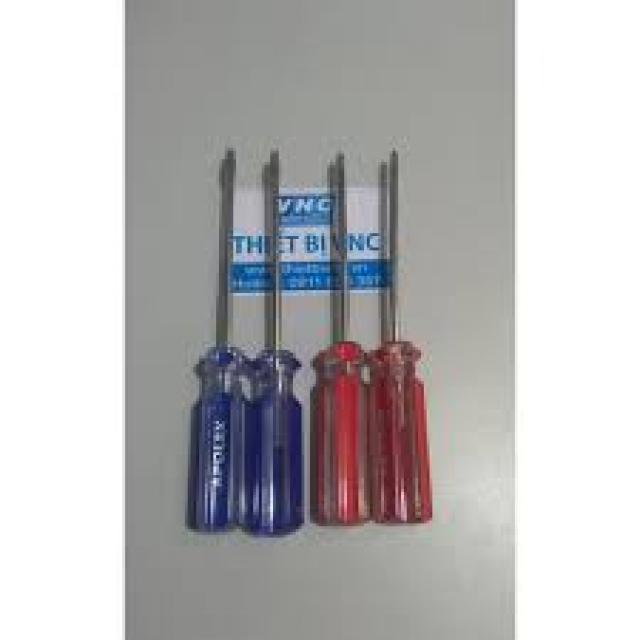screwdriver: (182, 139, 250, 549), (366, 143, 436, 540), (306, 148, 372, 540), (244, 139, 304, 552)
